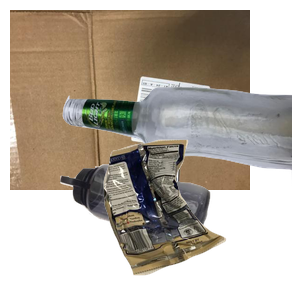cardboard: (10, 10, 250, 190)
glass: (60, 84, 300, 260)
plastic: (58, 162, 261, 300)
trash: (101, 137, 300, 300)
